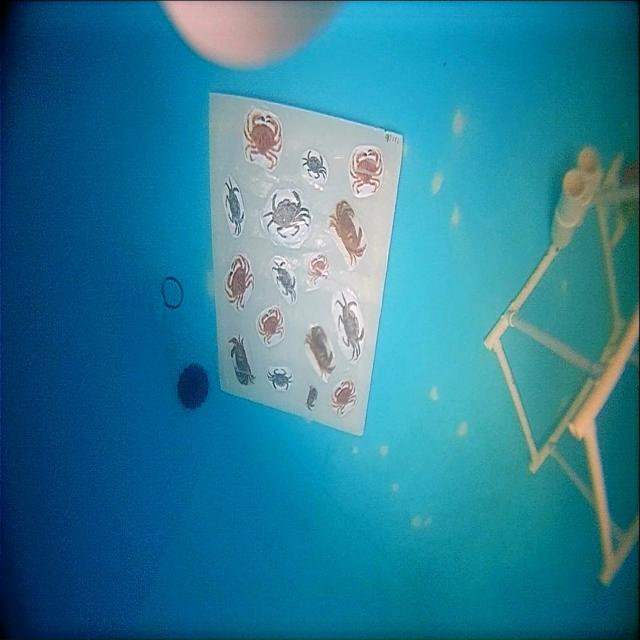GreenCrab: (263, 191, 310, 238), (336, 293, 364, 359), (223, 177, 245, 236), (303, 151, 327, 178)
